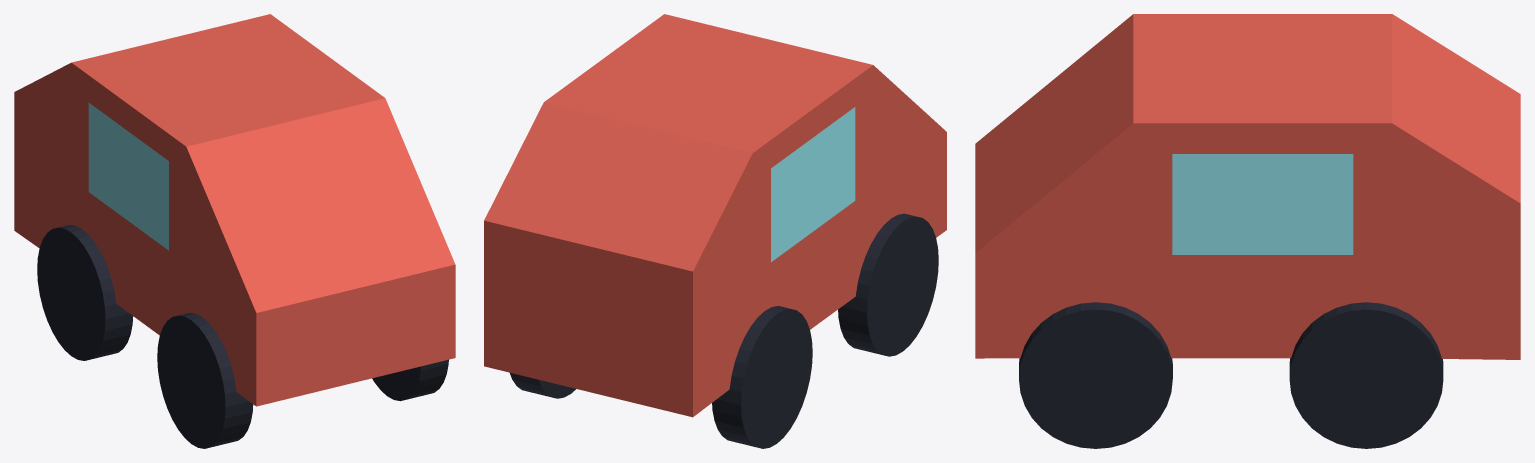
Rendered from Car_01.fbx.
3 renders of one model, left to right at view 1: azimuth 30°, elevation 25°; view 2: azimuth 150°, elevation 25°; view 3: azimuth 270°, elevation 25°, orthographic. The views are drawn at different scales.
Visible parts, largest first — view 1: Cube, Cylinder.001, Cylinder; view 2: Cube, Cylinder.001, Cylinder; view 3: Cube, Cylinder.
Boxes of the visible parts, x1=… form: Cube: x1=14, y1=14, x2=455, y2=406; Cylinder.001: x1=37, y1=225, x2=253, y2=448; Cylinder: x1=372, y1=359, x2=448, y2=401; Cube: x1=484, y1=14, x2=946, y2=417; Cylinder.001: x1=712, y1=213, x2=938, y2=448; Cylinder: x1=510, y1=373, x2=575, y2=398; Cube: x1=975, y1=14, x2=1520, y2=359; Cylinder: x1=1019, y1=302, x2=1443, y2=448.
Size of the model in its own units: 225 by 271 by 421.
